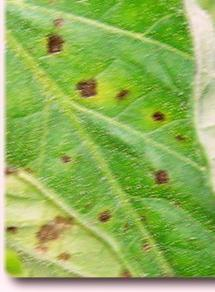Tomato Septoria leaf spot: (10, 0, 215, 269)
